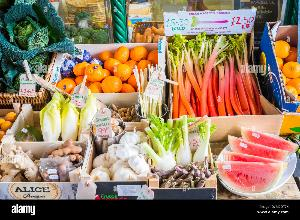garlic: (83, 120, 151, 190)
orange: (52, 42, 163, 102)
watermelon: (215, 120, 300, 195)
